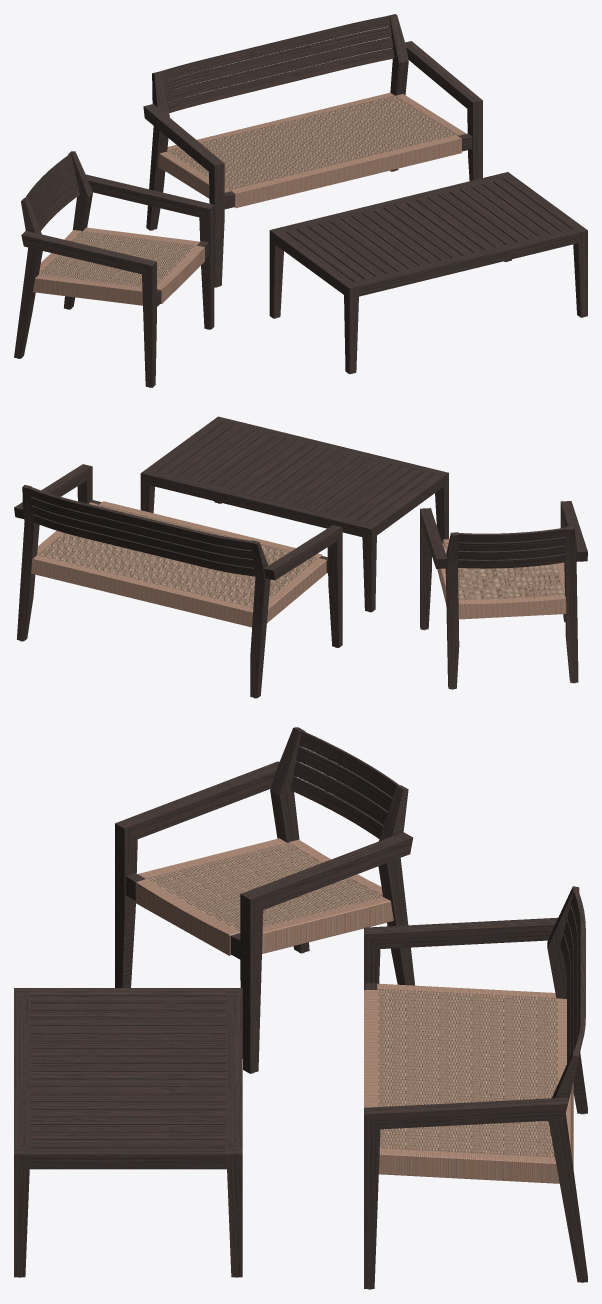
File: mikado-set_nocolor.fbx
3 views of the same model, one above another, from view 1: azimuth 30°, elevation 25°; view 2: azimuth 150°, elevation 25°; view 3: azimuth 270°, elevation 25° (orthographic). The views are drawn at different scales.
Visible parts, largest first — view 1: mikado-set; view 2: mikado-set; view 3: mikado-set.
Boxes of the visible parts, bbox=[...] form: mikado-set: bbox=[14, 14, 587, 387]; mikado-set: bbox=[14, 416, 587, 698]; mikado-set: bbox=[14, 727, 587, 1289].
Size of the model in its own units: 248 by 76.5 by 176.
Materials: 6 (5 with a texture image).
